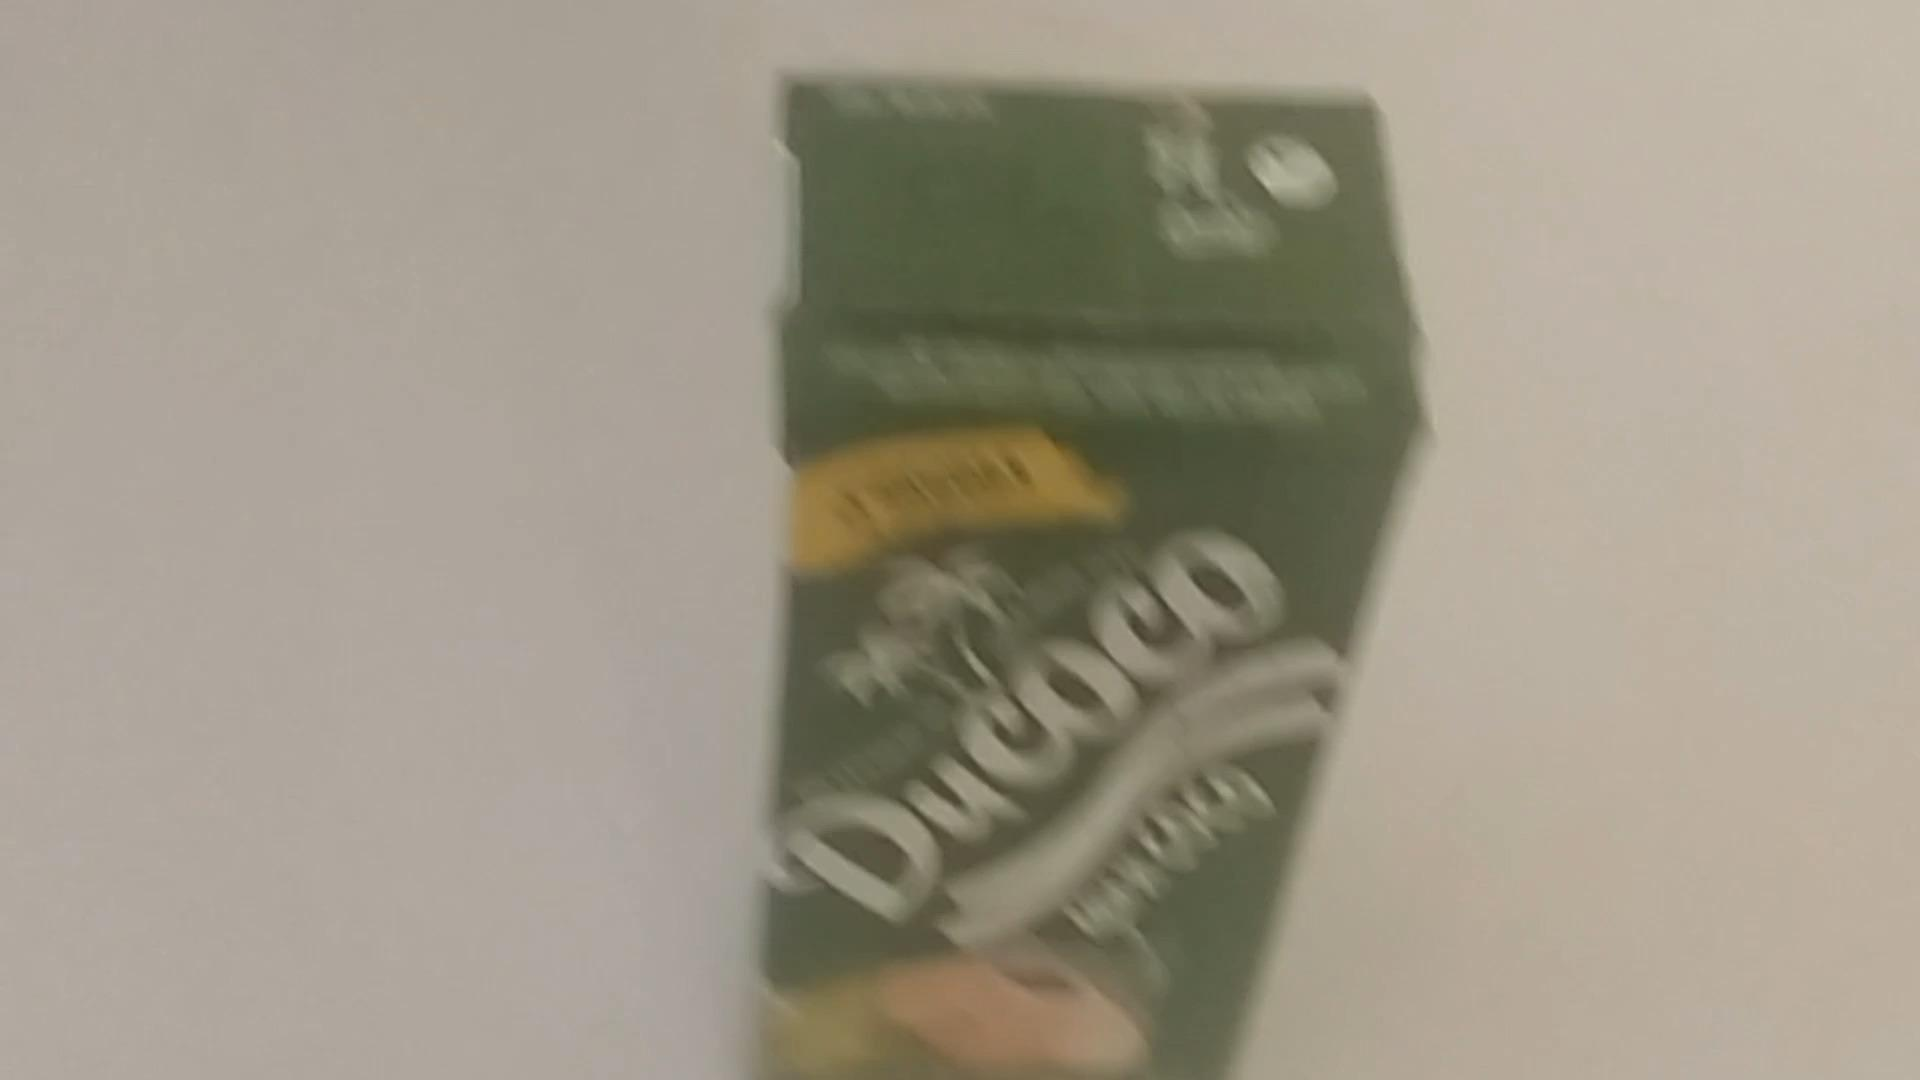coco: (756, 69, 1435, 1080)
